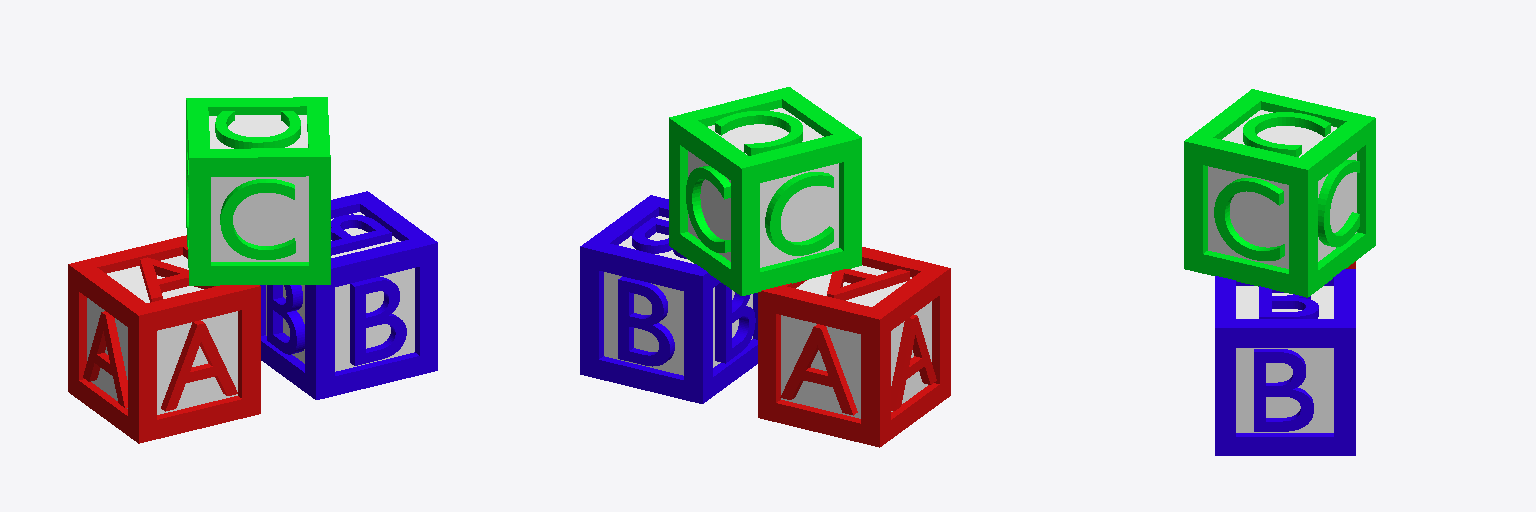
File: ABC_Spielwuerfel.obj
3 renders of one model, left to right at view 1: azimuth 30°, elevation 25°; view 2: azimuth 150°, elevation 25°; view 3: azimuth 270°, elevation 25°, orthographic.
Parts seen in each view (by area): view 1: Cube_Mesh.005, Cube.005_Mesh.019, Cube.002_Mesh.012, Cube.004, Cube.001_Cube.002, Cube.003, Font.006_Mesh.013, Font_Mesh.006, Font.012_Mesh.020, Font.007_Mesh.014, Font.001_Mesh.007, Font.016_Mesh.024 (+2 smaller); view 2: Cube.005_Mesh.019, Cube_Mesh.005, Cube.002_Mesh.012, Cube.004, Cube.001_Cube.002, Cube.003, Font.008_Mesh.015, Font.003_Mesh.009, Font.013_Mesh.021, Font.007_Mesh.014, Font.001_Mesh.007, Font.014_Mesh.022 (+3 smaller); view 3: Cube.005_Mesh.019, Cube.002_Mesh.012, Cube.004, Cube.003, Font.009_Mesh.016, Font.015_Mesh.023, Font.016_Mesh.024, Font.014_Mesh.022, Font.011_Mesh.018.
Part boxes in pixels (left/top/right/bottom): Cube_Mesh.005: left=68, top=235, right=260, bottom=443; Cube.005_Mesh.019: left=186, top=97, right=330, bottom=285; Cube.002_Mesh.012: left=260, top=191, right=437, bottom=399; Cube.004: left=209, top=115, right=308, bottom=261; Cube.001_Cube.002: left=87, top=255, right=237, bottom=414; Cube.003: left=266, top=212, right=414, bottom=371; Font.006_Mesh.013: left=350, top=277, right=406, bottom=365; Font_Mesh.006: left=161, top=320, right=237, bottom=411; Font.012_Mesh.020: left=220, top=179, right=295, bottom=259; Font.007_Mesh.014: left=267, top=285, right=304, bottom=354; Font.001_Mesh.007: left=83, top=311, right=127, bottom=407; Font.016_Mesh.024: left=215, top=111, right=300, bottom=148; Cube.005_Mesh.019: left=669, top=87, right=861, bottom=295; Cube_Mesh.005: left=758, top=247, right=950, bottom=447; Cube.002_Mesh.012: left=580, top=195, right=757, bottom=403; Cube.004: left=688, top=108, right=838, bottom=267; Cube.001_Cube.002: left=781, top=265, right=931, bottom=418; Cube.003: left=604, top=216, right=752, bottom=375; Font.008_Mesh.015: left=618, top=276, right=674, bottom=366; Font.003_Mesh.009: left=780, top=324, right=857, bottom=415; Font.013_Mesh.021: left=765, top=172, right=833, bottom=255; Font.007_Mesh.014: left=715, top=283, right=755, bottom=363; Font.001_Mesh.007: left=891, top=315, right=936, bottom=410; Font.014_Mesh.022: left=686, top=166, right=730, bottom=252; Cube.005_Mesh.019: left=1184, top=89, right=1375, bottom=297; Cube.002_Mesh.012: left=1215, top=269, right=1355, bottom=455; Cube.004: left=1208, top=110, right=1356, bottom=268; Cube.003: left=1236, top=286, right=1333, bottom=432; Font.009_Mesh.016: left=1254, top=349, right=1313, bottom=431; Font.015_Mesh.023: left=1214, top=178, right=1284, bottom=260; Font.016_Mesh.024: left=1243, top=112, right=1330, bottom=156; Font.014_Mesh.022: left=1318, top=160, right=1359, bottom=247; Font.011_Mesh.018: left=1259, top=286, right=1318, bottom=318.
Bounding box in the file's own units: 5.16 × 4.21 × 2.86.